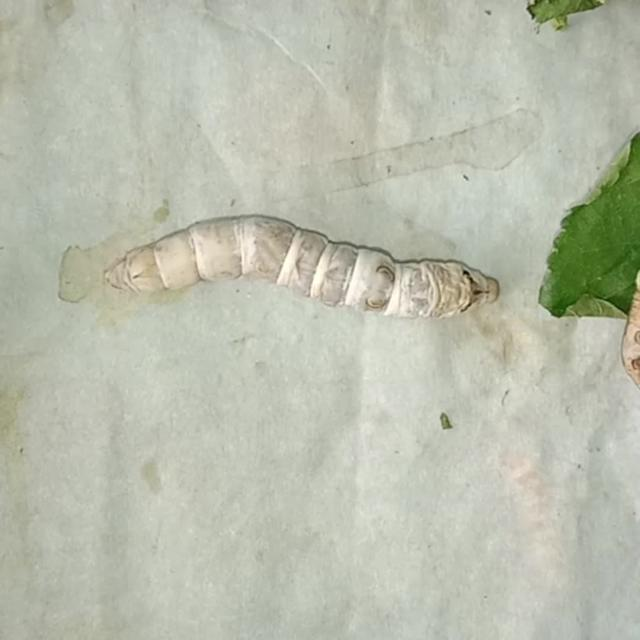Grasserie: (89, 181, 509, 362)
